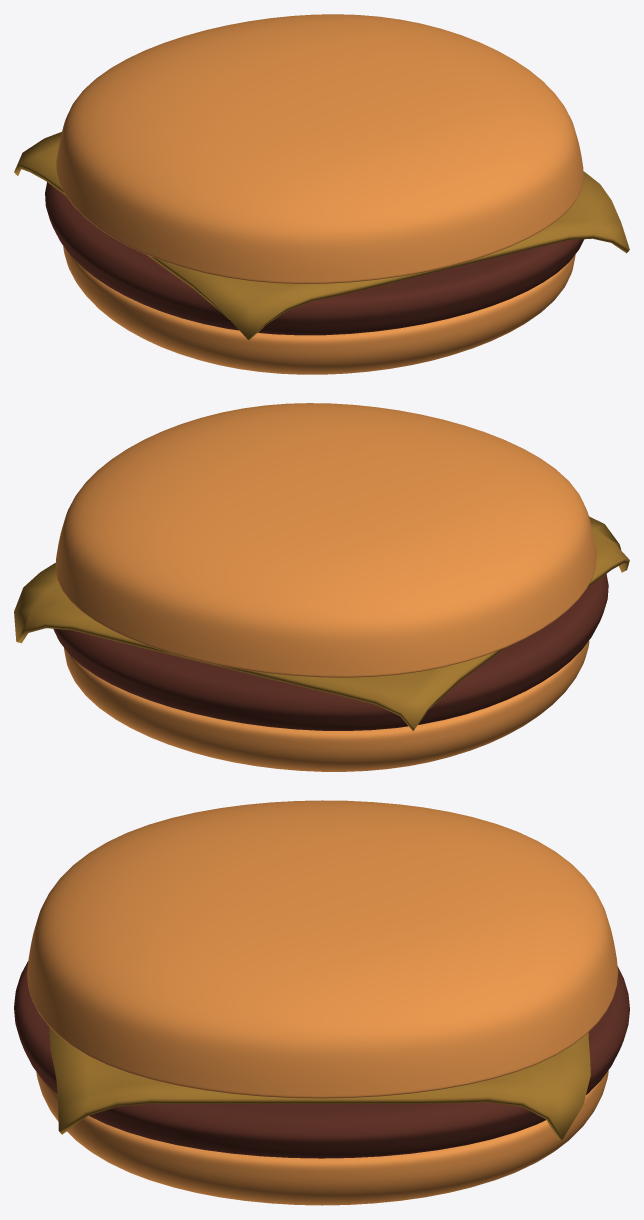
The model's file is hamburger.glb.
3 renders of one model, top to bottom at view 1: azimuth 30°, elevation 25°; view 2: azimuth 150°, elevation 25°; view 3: azimuth 270°, elevation 25°, orthographic. The views are drawn at different scales.
Visible parts, largest first — view 1: Cube.002, Cube.001, Cube, Plane; view 2: Cube.002, Cube.001, Cube, Plane; view 3: Cube.002, Cube.001, Cube, Plane.
Boxes of the visible parts, bbox=[...] form: Cube.002: bbox=[56, 14, 583, 283]; Cube.001: bbox=[45, 182, 583, 335]; Cube: bbox=[63, 246, 575, 374]; Plane: bbox=[14, 132, 629, 339]; Cube.002: bbox=[55, 403, 596, 677]; Cube.001: bbox=[53, 574, 608, 730]; Cube: bbox=[64, 640, 589, 771]; Plane: bbox=[14, 516, 629, 731]; Cube.002: bbox=[27, 800, 618, 1098]; Cube.001: bbox=[14, 961, 629, 1158]; Cube: bbox=[36, 1070, 608, 1205]; Plane: bbox=[49, 1027, 590, 1139].
Bounding box in the file's own units: 2.51 × 1.14 × 2.52.
